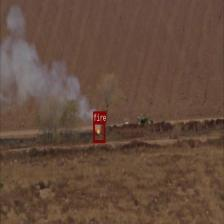fire: (93, 121, 105, 142)
